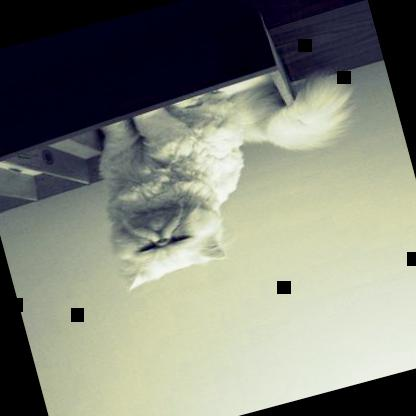cat: (76, 55, 388, 294)
